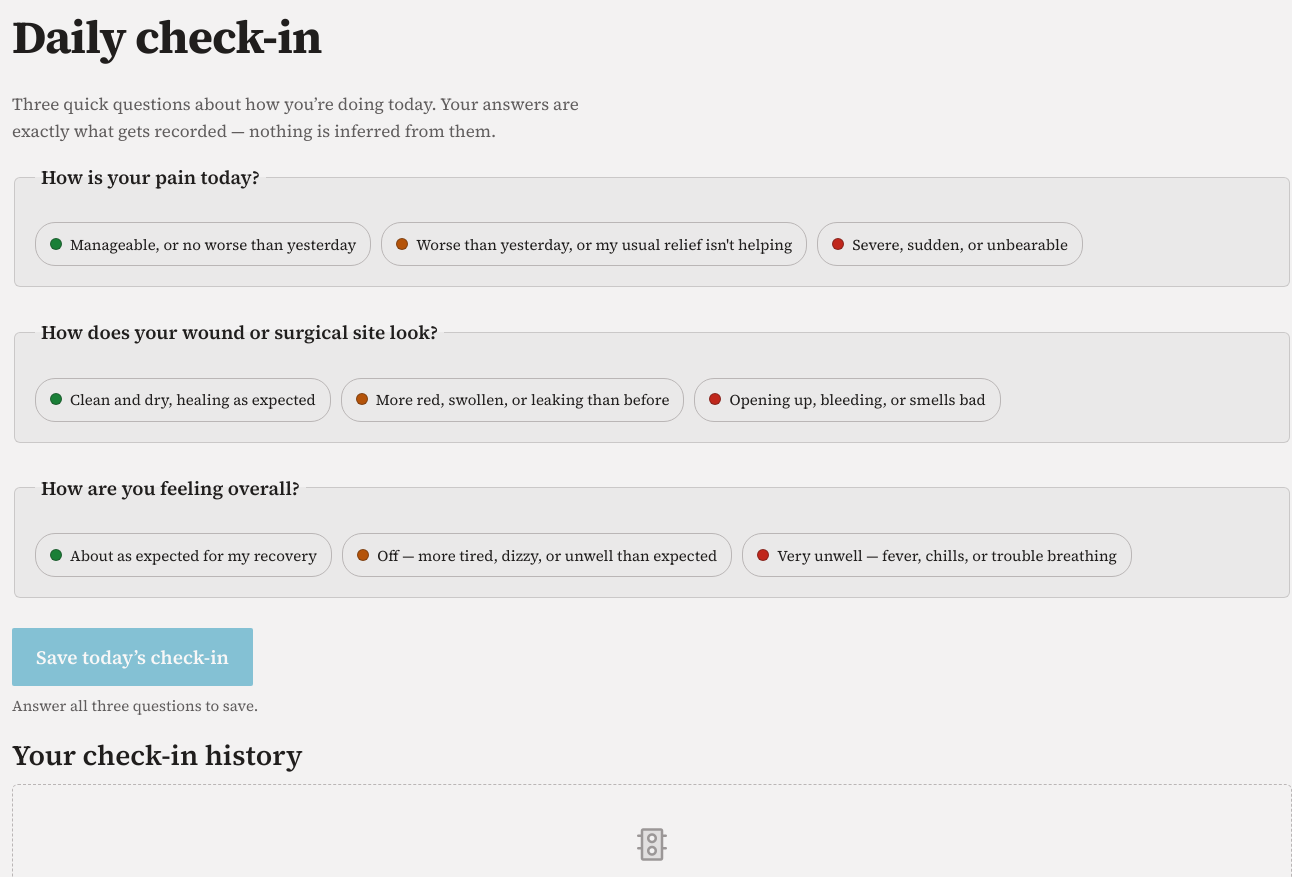
Test: CheckIn screen › alerts the care circle when any answer is amber
Click the button "Manageable, or no worse than yesterday" at coordinates (203, 244), box [35,222,371,266]
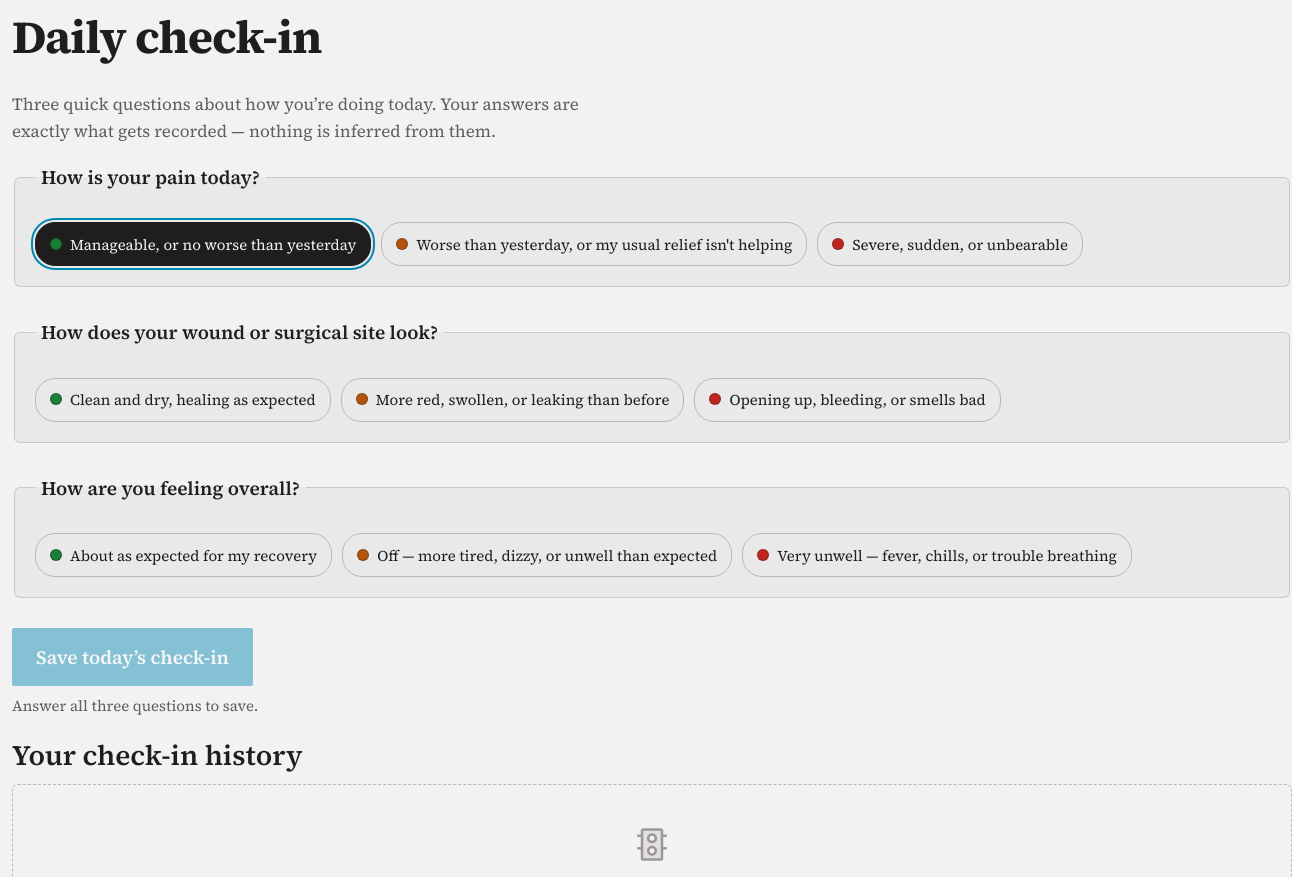
Click the button "More red, swollen, or leaking than before" at coordinates (513, 400), box [341,378,684,422]
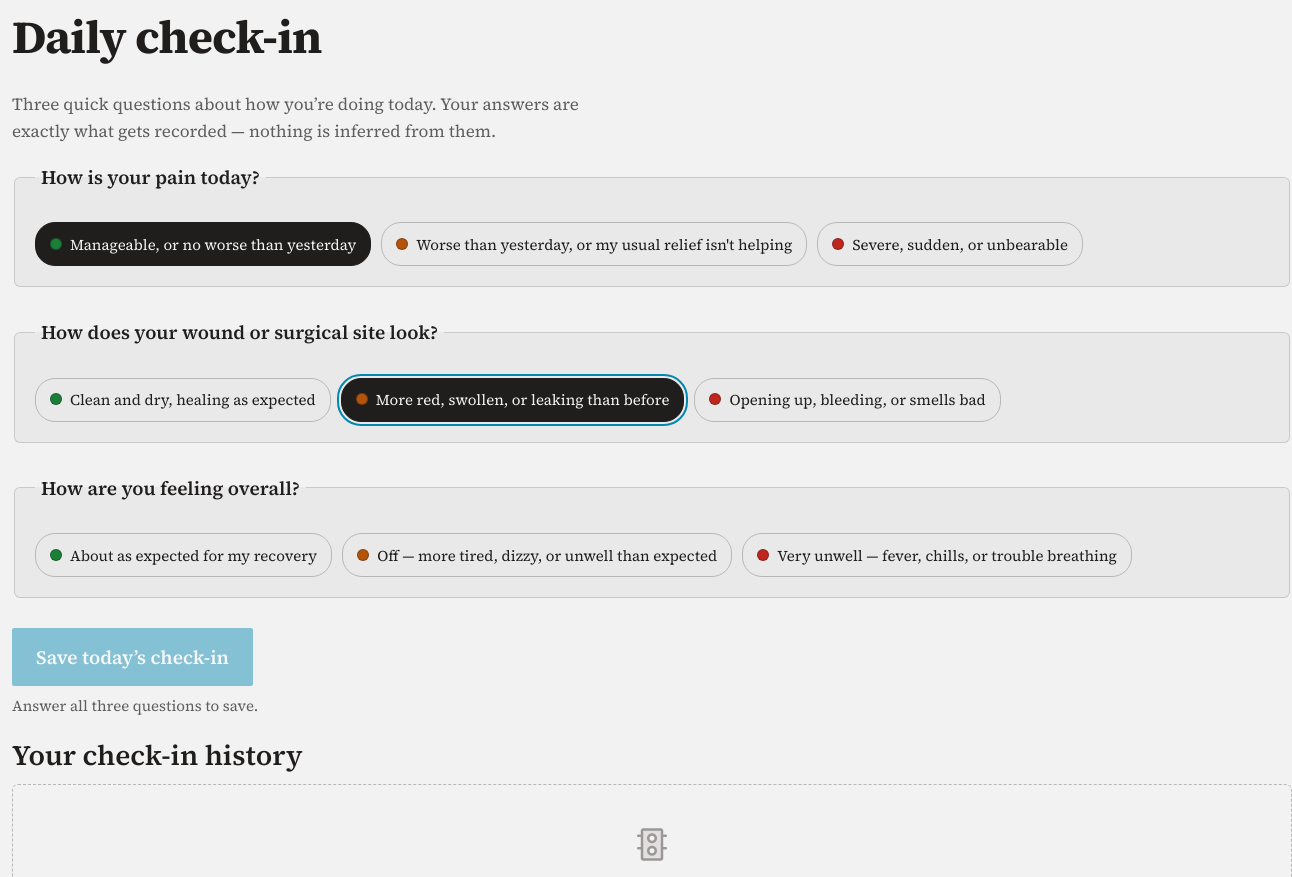
Click the button "About as expected for my recovery" at coordinates (184, 555), box [35,533,332,577]
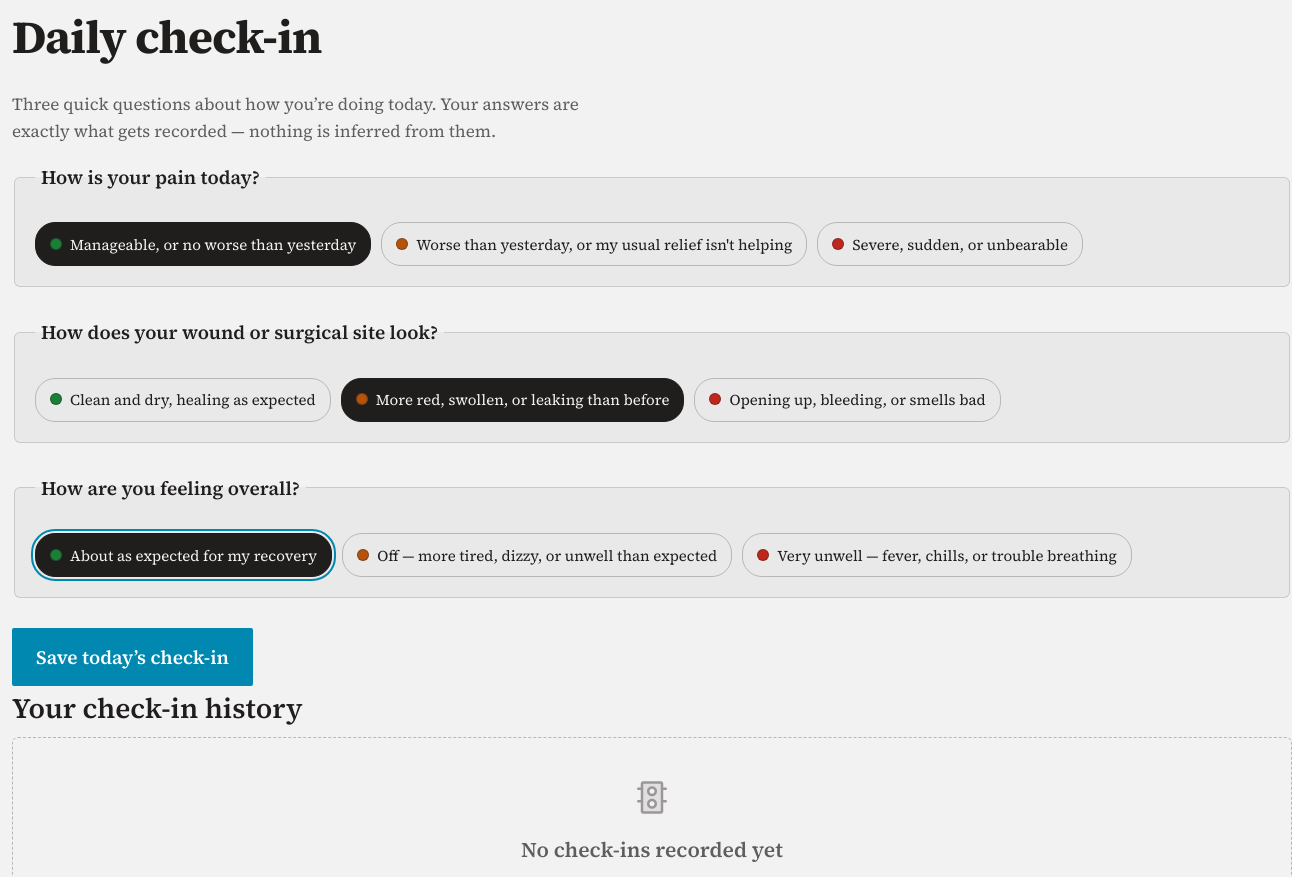
Click the button "Save today’s check-in" at coordinates (132, 657), box [12,628,253,686]
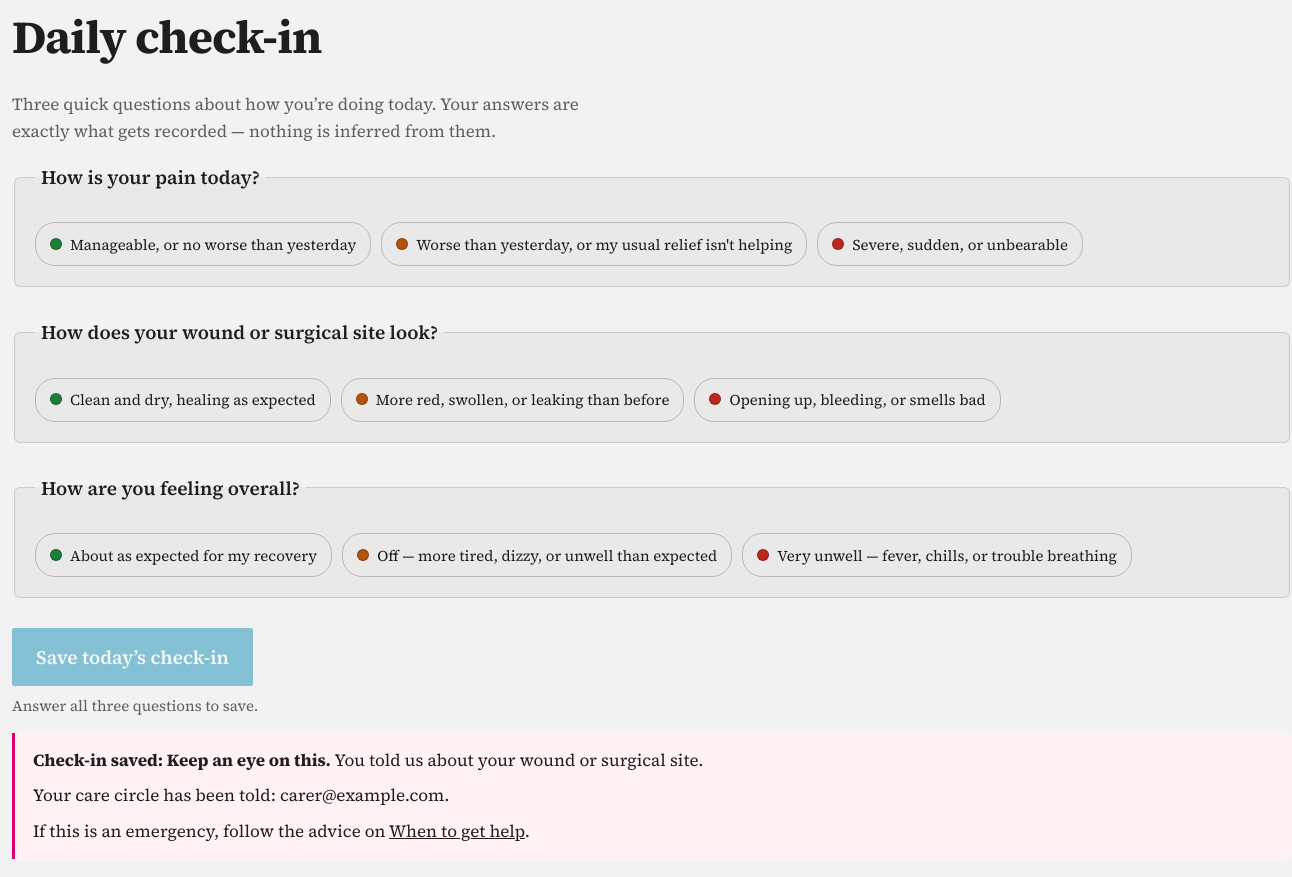
expect the message shows "Keep an eye on this": met, box [167,748,326,772]
expect the message shows "carer@example.com": met, box [33,783,450,807]
